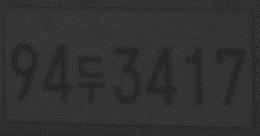1: (183, 44, 205, 110)
3: (111, 44, 142, 105)
4: (145, 45, 179, 108), (42, 43, 73, 104)
7: (213, 45, 248, 108)
9: (10, 43, 39, 102)
두: (76, 53, 107, 100)
